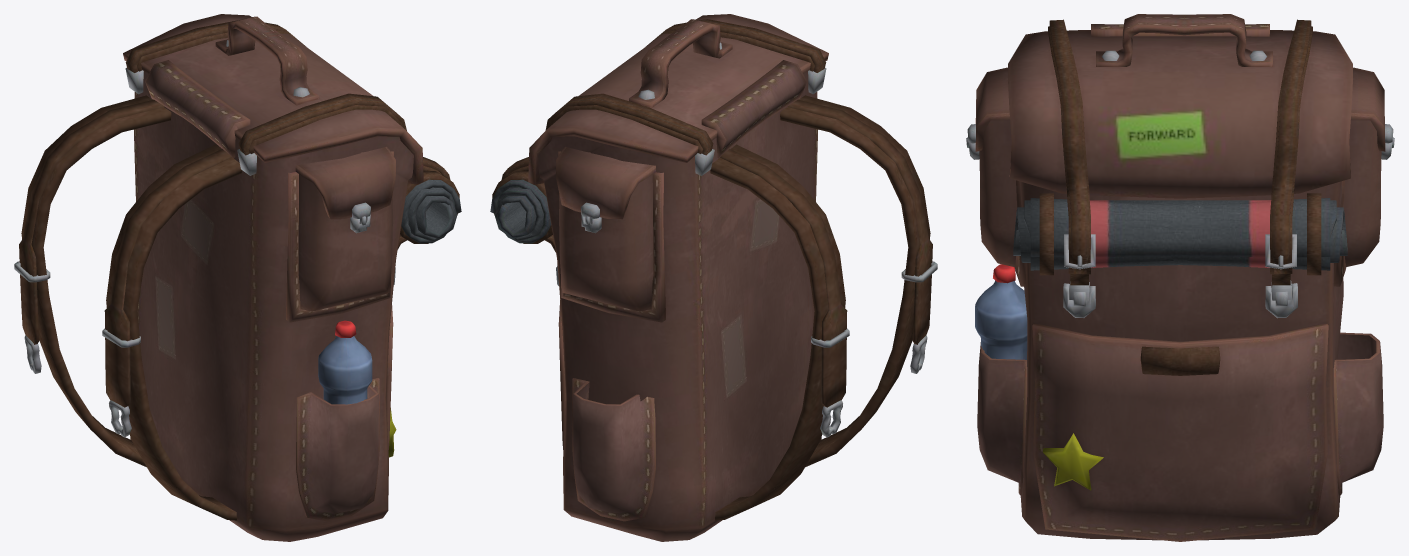
The picture shows the model from 3 angles, left to right: view 1: azimuth 30°, elevation 25°; view 2: azimuth 150°, elevation 25°; view 3: azimuth 270°, elevation 25°; orthographic projection. The views are drawn at different scales.
Parts seen in each view (by area): view 1: bag_low, bag.003_low, bag.036_low, bag.041_low, bag.018_low, bag.045_low, bag.039_low, bag.019_low, bag.024_low, bag.043_low, bag.006_low, bag.004_low (+8 smaller); view 2: bag_low, bag.003_low, bag.037_low, bag.045_low, bag.020_low, bag.041_low, bag.043_low, bag.021_low, bag.024_low, bag.039_low, bag.006_low, bag.011_low (+7 smaller); view 3: bag.001_low, bag.003_low, bag_low, bag.011_low, bag.037_low, bag.036_low, bag.029_low, bag.030_low, bag.018_low, bag.020_low, bag.006_low, bag.004_low (+12 smaller).
Part boxes in pixels (<box>): bag_low: <box>130,71,413,541</box>; bag.003_low: <box>123,14,423,184</box>; bag.036_low: <box>296,378,379,521</box>; bag.041_low: <box>106,144,241,520</box>; bag.018_low: <box>298,174,392,311</box>; bag.045_low: <box>21,95,171,467</box>; bag.039_low: <box>104,149,231,407</box>; bag.019_low: <box>295,146,395,219</box>; bag.024_low: <box>145,60,250,158</box>; bag.043_low: <box>19,99,163,344</box>; bag.006_low: <box>215,16,319,105</box>; bag.004_low: <box>318,336,372,404</box>; bag_low: <box>538,71,821,541</box>; bag.003_low: <box>528,14,828,184</box>; bag.037_low: <box>572,378,655,521</box>; bag.045_low: <box>710,144,845,520</box>; bag.020_low: <box>559,174,653,311</box>; bag.041_low: <box>780,95,930,467</box>; bag.043_low: <box>720,149,847,407</box>; bag.021_low: <box>556,146,655,219</box>; bag.024_low: <box>701,60,806,158</box>; bag.039_low: <box>787,99,932,344</box>; bag.006_low: <box>629,19,732,108</box>; bag.011_low: <box>490,179,551,243</box>; bag.001_low: <box>1032,324,1328,541</box>; bag.003_low: <box>1008,30,1352,198</box>; bag_low: <box>1019,181,1343,540</box>; bag.011_low: <box>1013,198,1347,270</box>; bag.037_low: <box>1333,332,1383,495</box>; bag.036_low: <box>977,342,1027,495</box>; bag.029_low: <box>1049,19,1089,273</box>; bag.030_low: <box>1271,19,1311,273</box>; bag.018_low: <box>979,120,1016,266</box>; bag.020_low: <box>1344,120,1381,266</box>; bag.006_low: <box>1096,14,1272,66</box>; bag.004_low: <box>975,280,1027,359</box>.
Size of the model in its own units: 348 by 443 by 344.
1 material, 1 textured.
